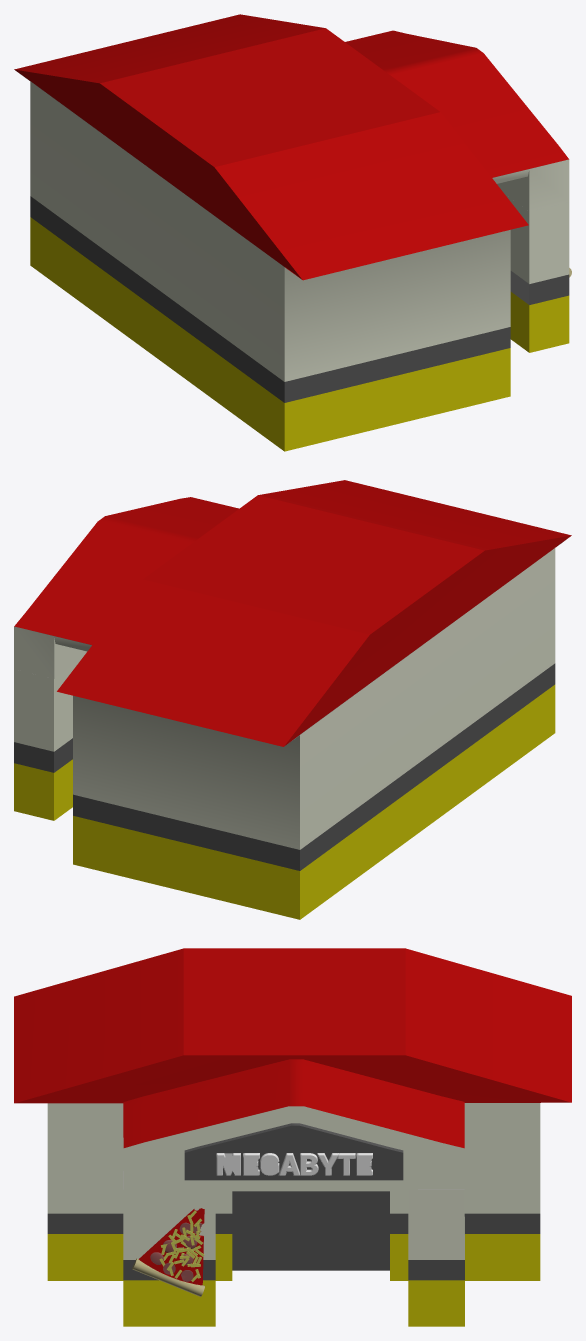
The model's file is Megabyte.fbx.
3 renders of one model, top to bottom at view 1: azimuth 30°, elevation 25°; view 2: azimuth 150°, elevation 25°; view 3: azimuth 270°, elevation 25°, orthographic. The views are drawn at different scales.
Parts seen in each view (by area): view 1: pCylinder20; view 2: pCylinder20; view 3: pCylinder20.
Part boxes in pixels (x1=…): pCylinder20: x1=14, y1=14, x2=571, y2=451; pCylinder20: x1=14, y1=480, x2=571, y2=919; pCylinder20: x1=14, y1=948, x2=571, y2=1326.
Size of the model in its own units: 40.61 by 27.05 by 60.59.
